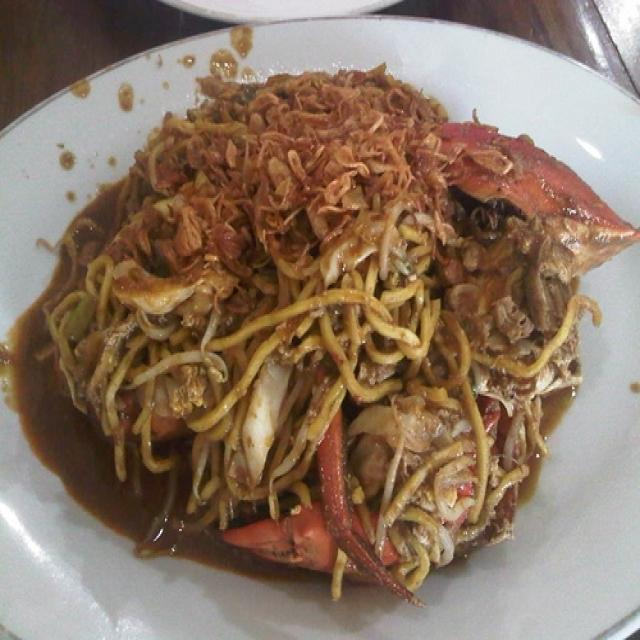面条主食: (8, 24, 608, 604)
